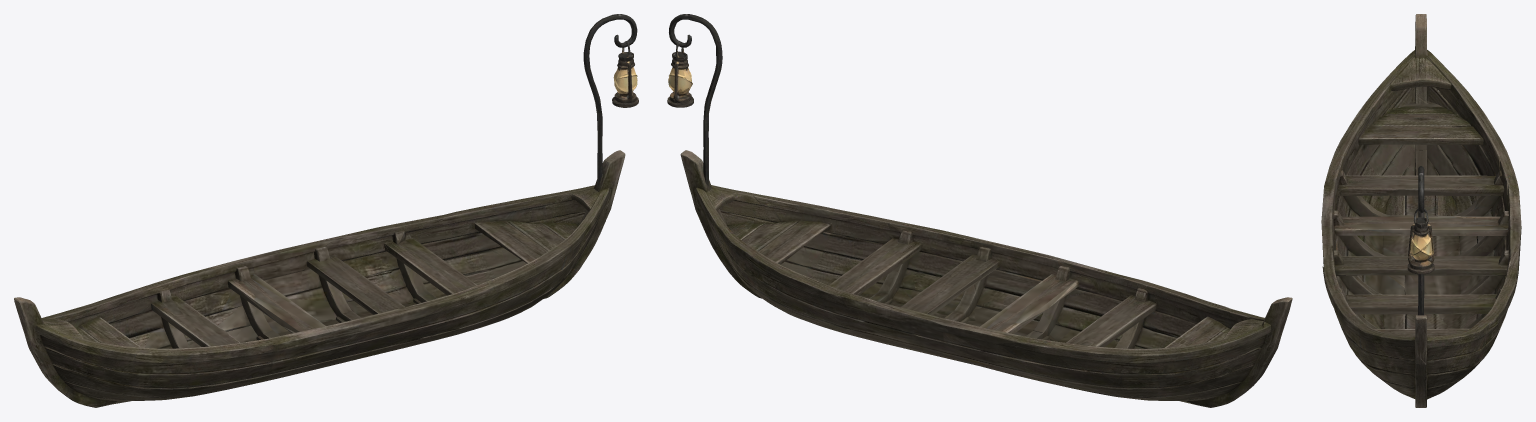
Rendered from sp_longboat.glb.
The picture shows the model from 3 angles, left to right: view 1: azimuth 30°, elevation 25°; view 2: azimuth 150°, elevation 25°; view 3: azimuth 270°, elevation 25°; orthographic projection. The views are drawn at different scales.
Visible parts, largest first — view 1: Mesh_0; view 2: Mesh_0; view 3: Mesh_0.
Part boxes in pixels (left/top/right/bottom): Mesh_0: left=14, top=14, right=638, bottom=407; Mesh_0: left=667, top=14, right=1292, bottom=407; Mesh_0: left=1321, top=14, right=1521, bottom=407.
Bounding box in the file's own units: 1.9 × 0.7752 × 0.5174.
Materials: 1 (1 with a texture image).
